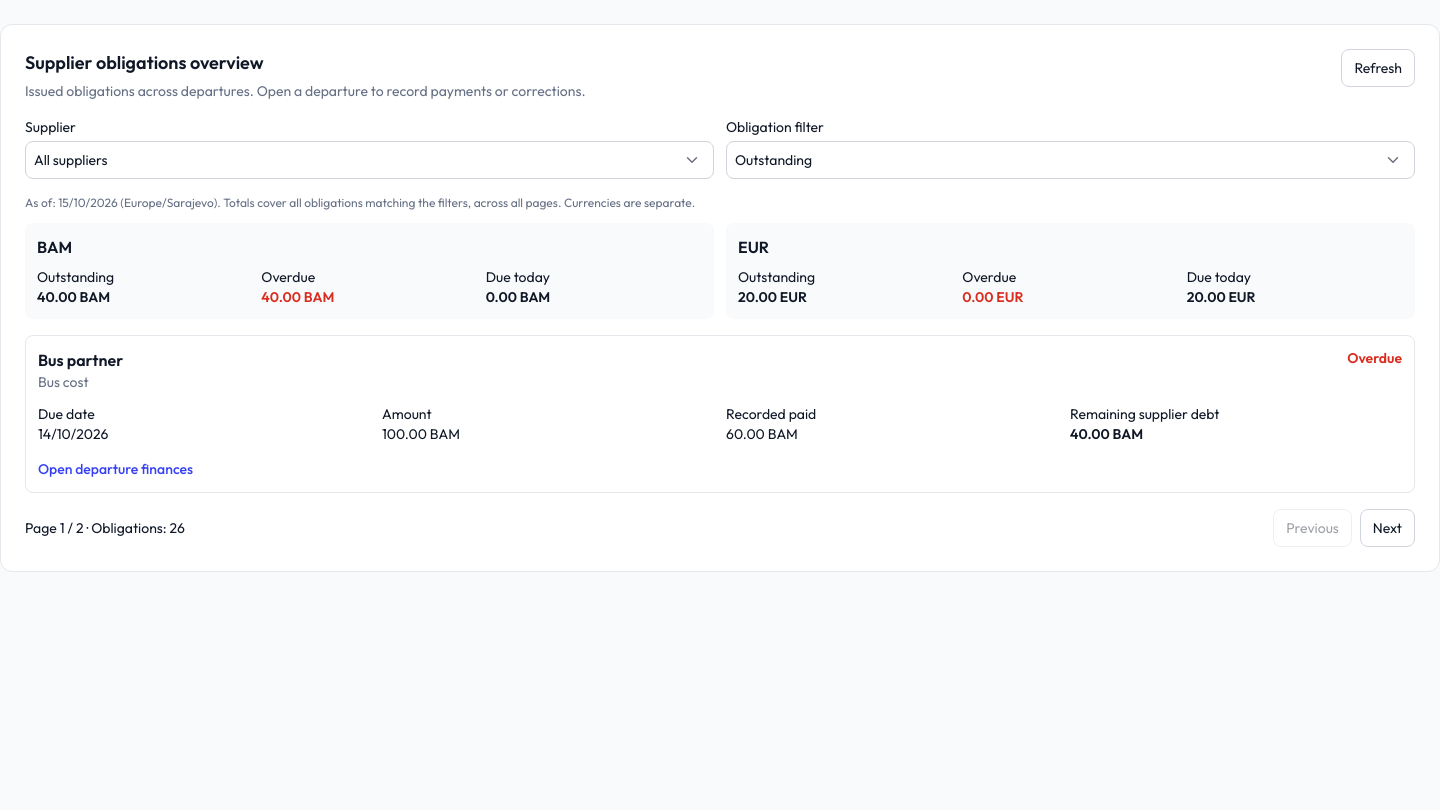
Test case: hides old money on a failed refresh and provides a working retry
Check: the text "Bus cost" is shown, box top-left (38, 373), bottom-right (89, 391)
What coordinates should you click on to do the following:
click the button "Refresh"
I would click on:
 (1378, 68)
Its box is top-left (1341, 49), bottom-right (1415, 87).
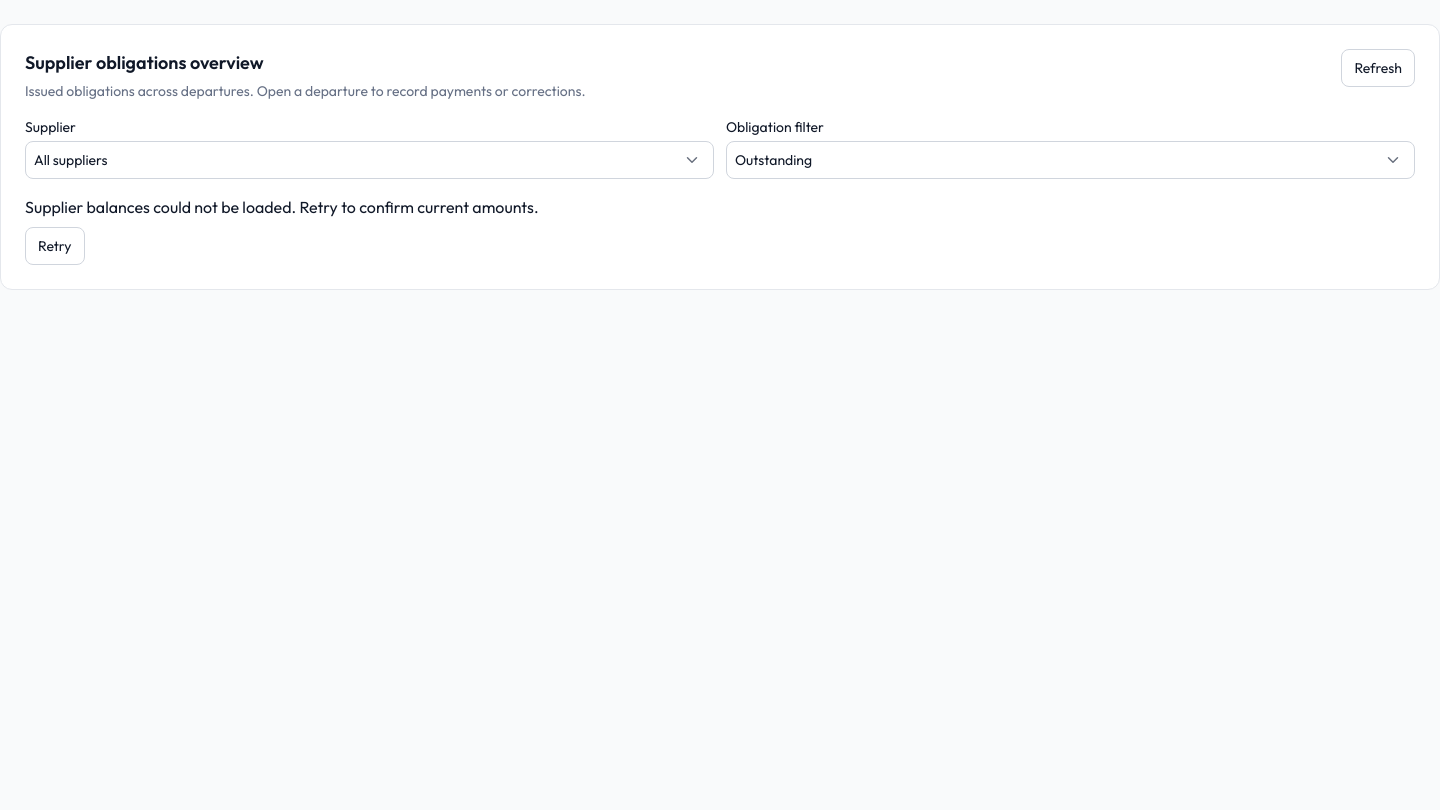
Check: the message "Supplier balances could not be loaded. Retry to confirm current amounts. Retry" is shown, box top-left (25, 197), bottom-right (538, 265)
Check: the text "Bus cost" is gone
What coordinates should you click on to do the following:
click the button "Retry"
I would click on:
 (55, 246)
Its box is top-left (25, 227), bottom-right (85, 265).
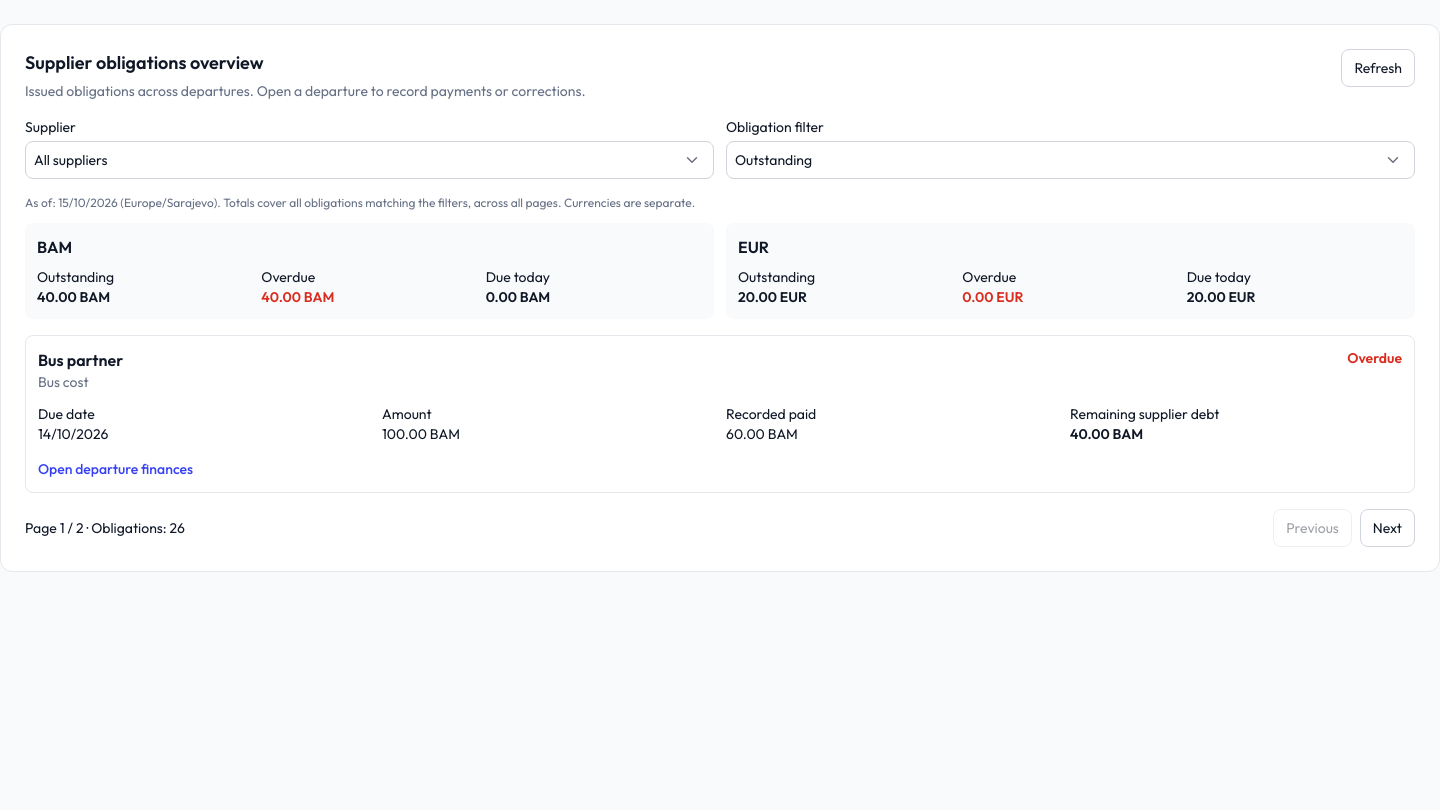
Check: the text "Bus cost" is shown, box top-left (38, 373), bottom-right (89, 391)
